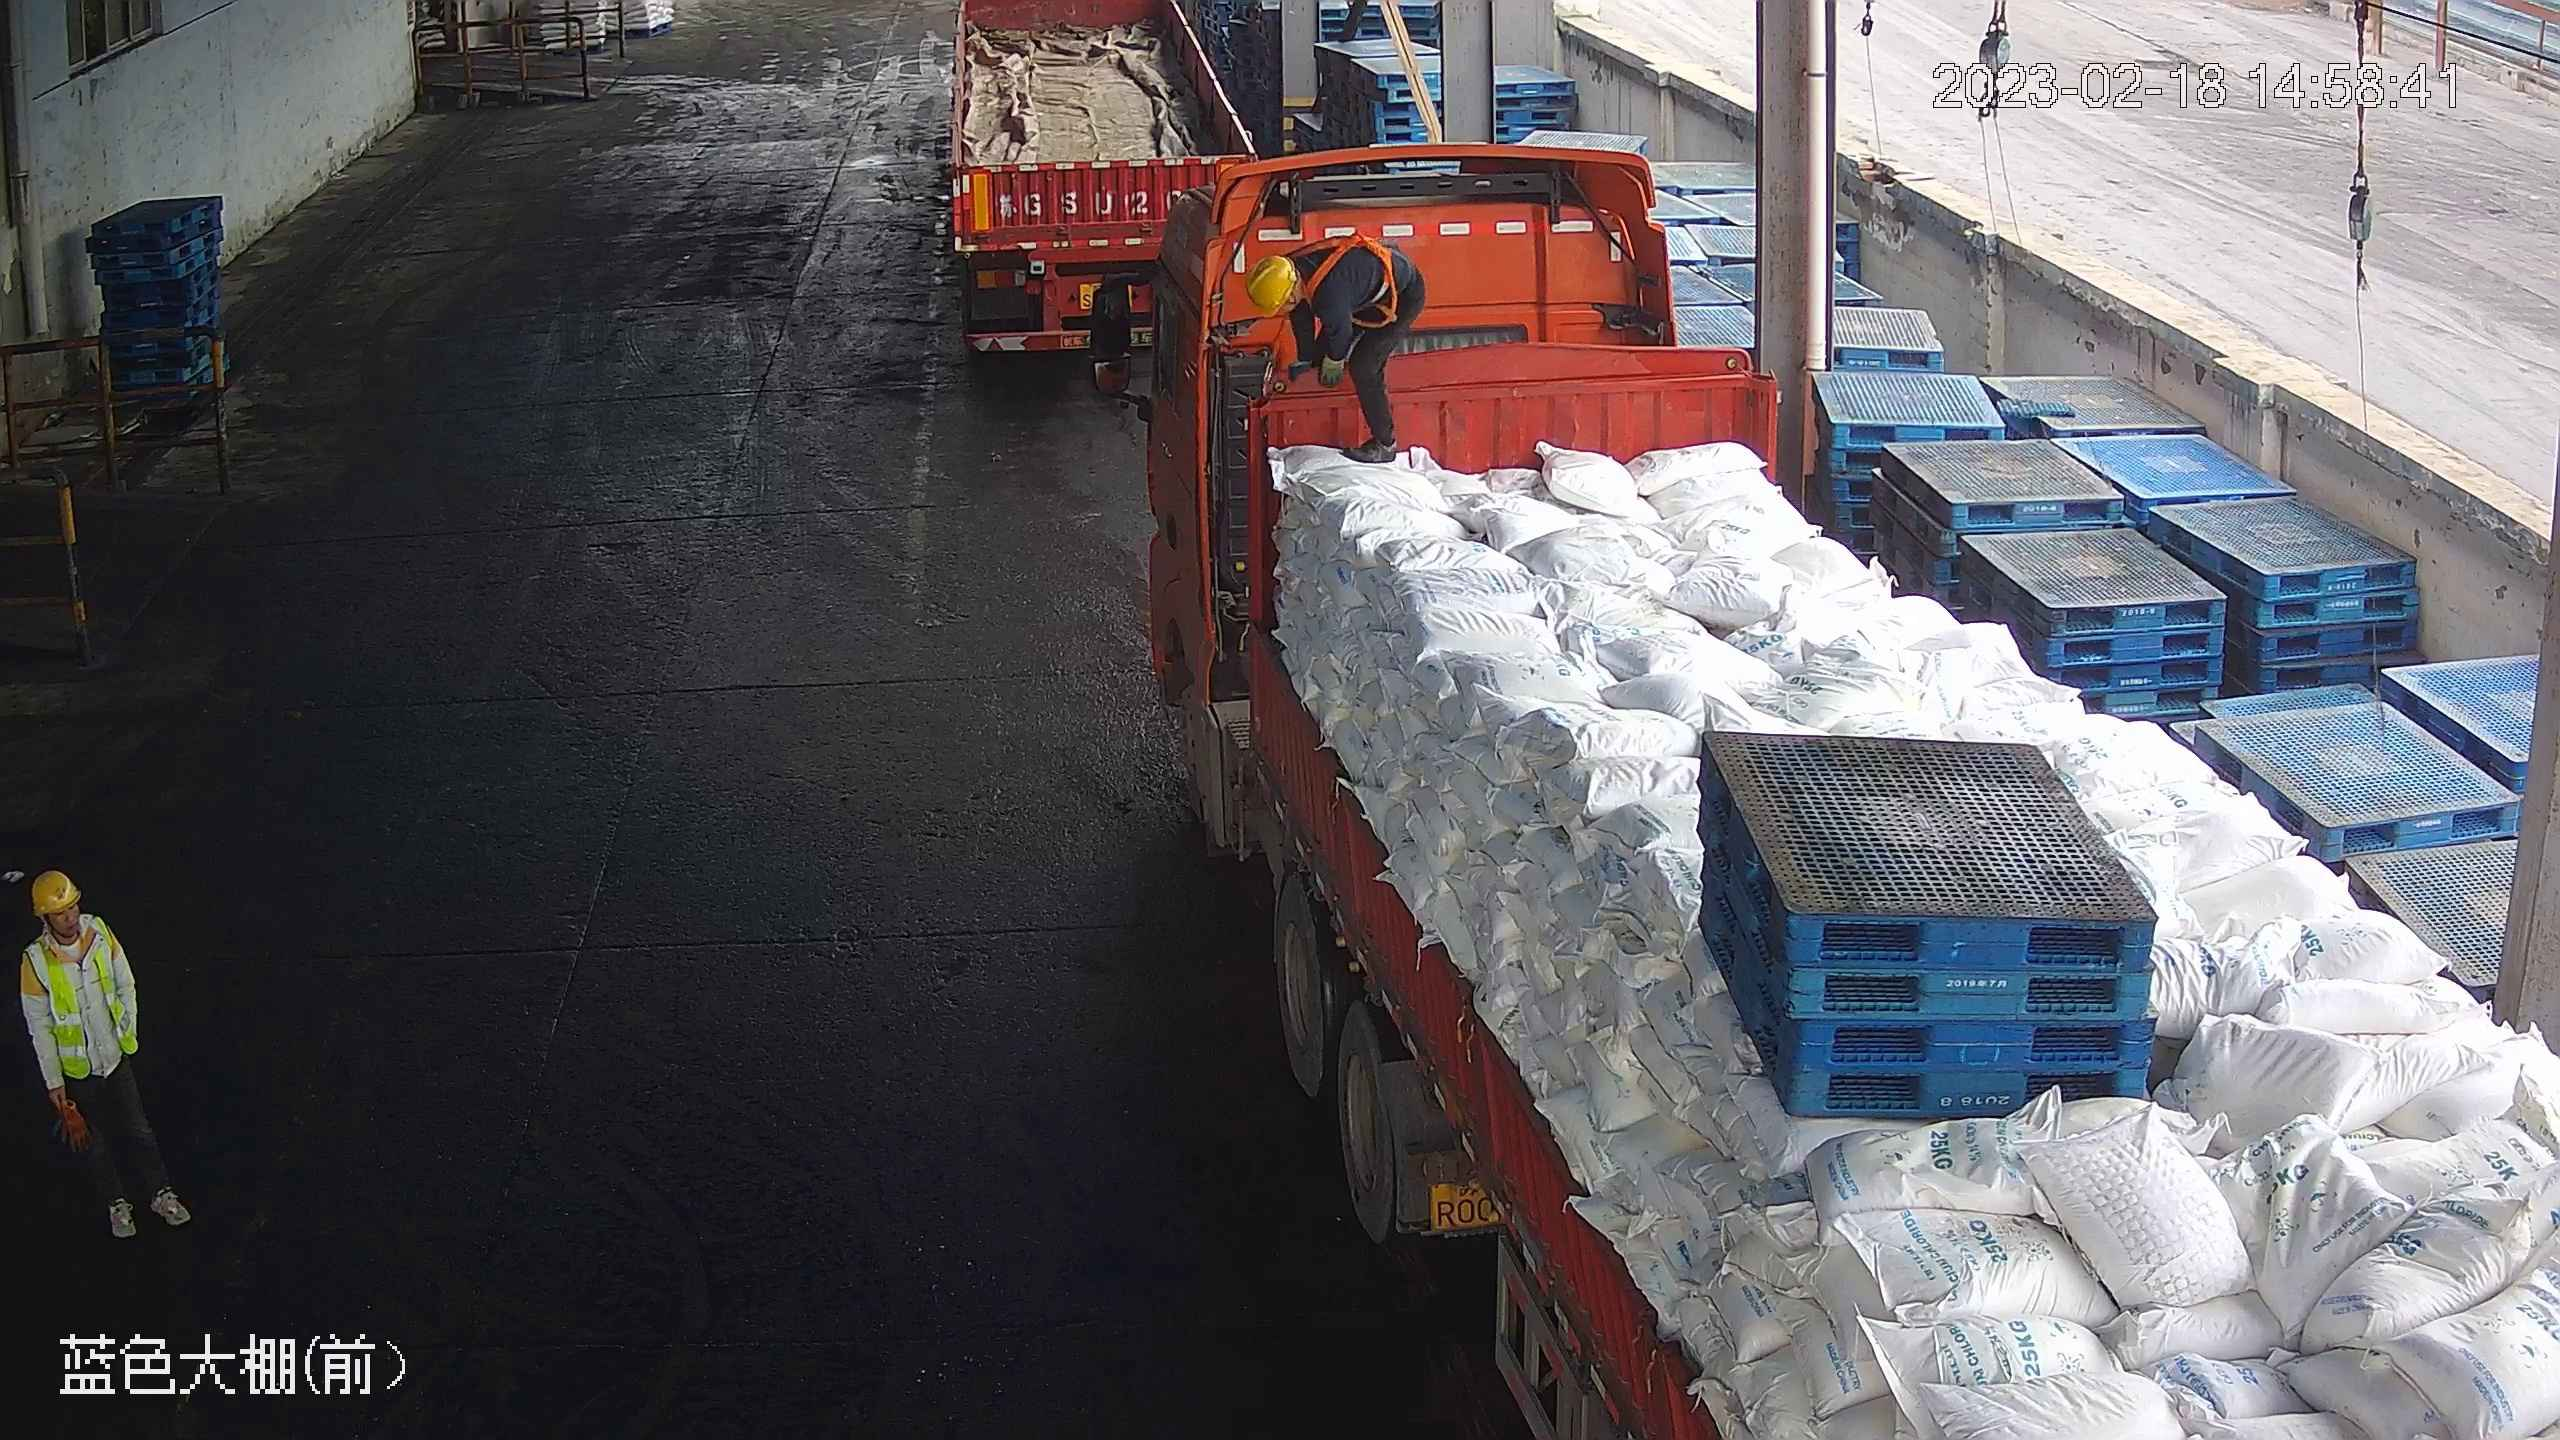belt: (1300, 227, 1398, 308)
head: (15, 867, 125, 988), (1244, 237, 1365, 331)
helmet: (1246, 253, 1294, 317), (23, 867, 78, 914)
people: (10, 862, 185, 1253), (1245, 233, 1427, 465)
truck: (1120, 153, 2560, 1440), (912, 1, 1263, 371)
